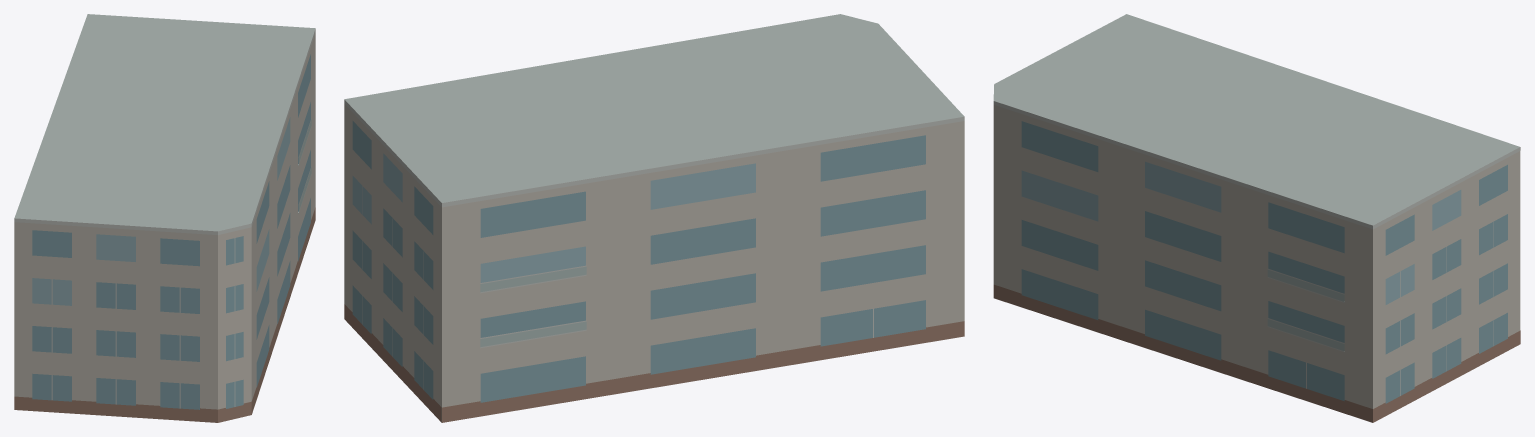
The model's file is survey-upis-32893162.glb.
3 views of the same model, side by side, from view 1: azimuth 30°, elevation 25°; view 2: azimuth 150°, elevation 25°; view 3: azimuth 270°, elevation 25° (orthographic). The views are drawn at different scales.
Visible parts, largest first — view 1: survey-upis-32893162.tmp; view 2: survey-upis-32893162.tmp; view 3: survey-upis-32893162.tmp.
Part boxes in pixels (x1,y1,x2,y2): survey-upis-32893162.tmp: [14, 14, 315, 422]; survey-upis-32893162.tmp: [344, 14, 964, 422]; survey-upis-32893162.tmp: [993, 14, 1520, 422].
Bounding box in the file's own units: 28.76 × 12.5 × 30.26.
